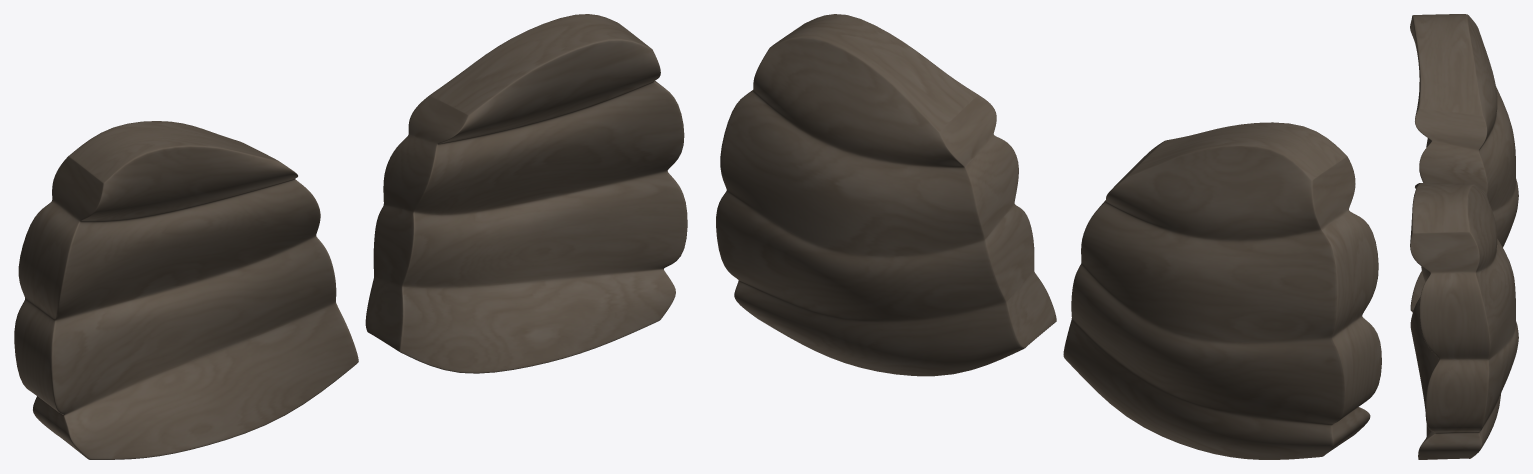
Rendered from Joue_renard.fbx.
3 views of the same model, side by side, from view 1: azimuth 30°, elevation 25°; view 2: azimuth 150°, elevation 25°; view 3: azimuth 270°, elevation 25° (orthographic). The views are drawn at different scales.
Parts seen in each view (by area): view 1: Joue renard; view 2: Joue renard; view 3: Joue renard.
Boxes of the visible parts, x1,y1,x2,y2 form: Joue renard: [14, 14, 687, 459]; Joue renard: [716, 14, 1381, 459]; Joue renard: [1410, 14, 1518, 459].
Size of the model in its own units: 531 by 253 by 97.72.
Materials: 1 (1 with a texture image).
